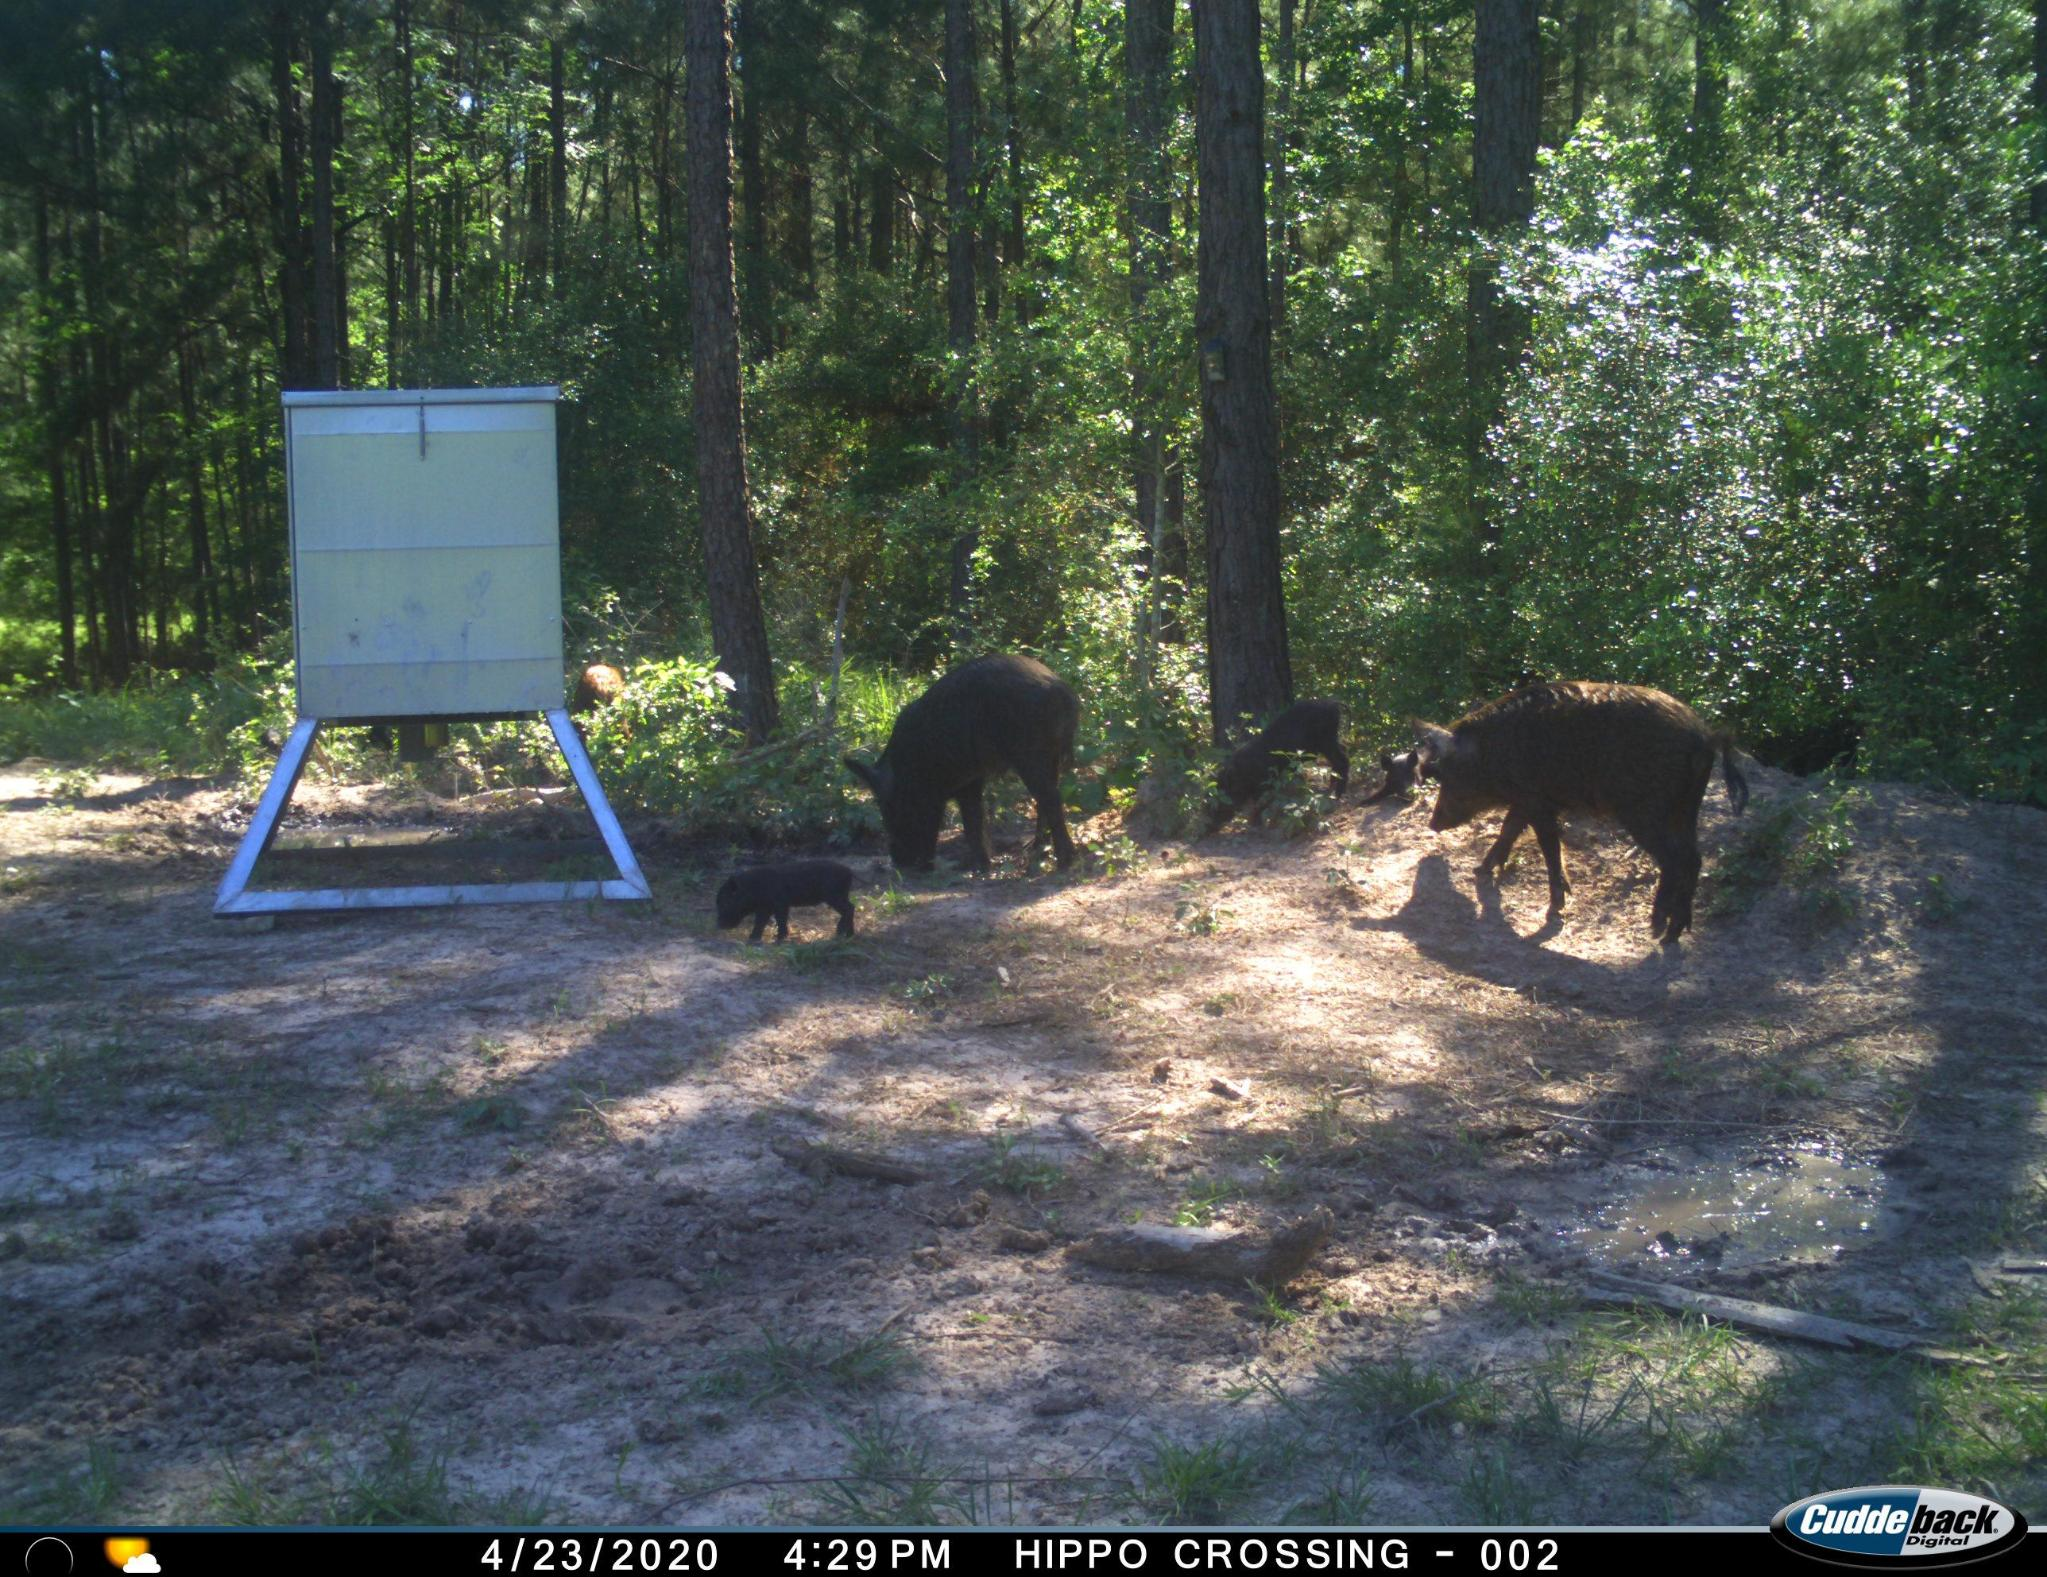Hog: (1413, 679, 1751, 946), (846, 648, 1091, 885), (1191, 694, 1365, 825), (707, 846, 871, 954), (1375, 734, 1424, 807)
